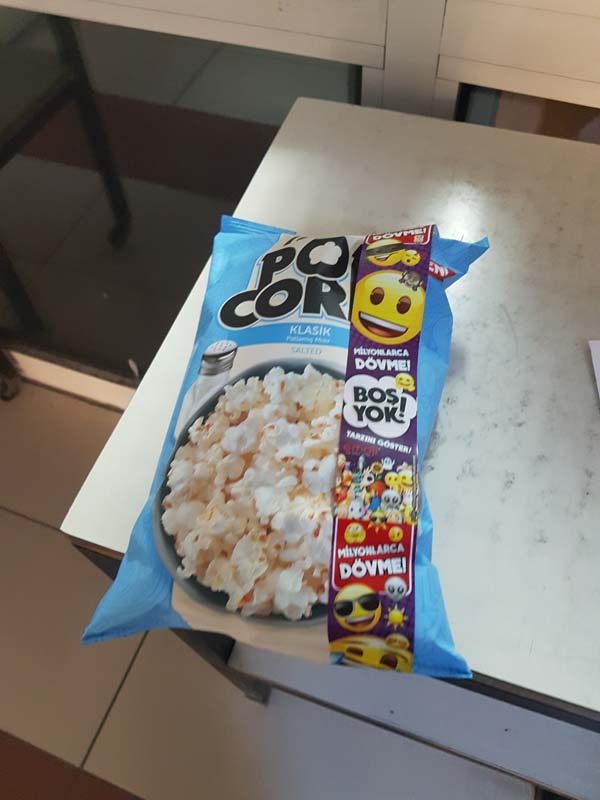popcorn: (96, 206, 490, 709)
